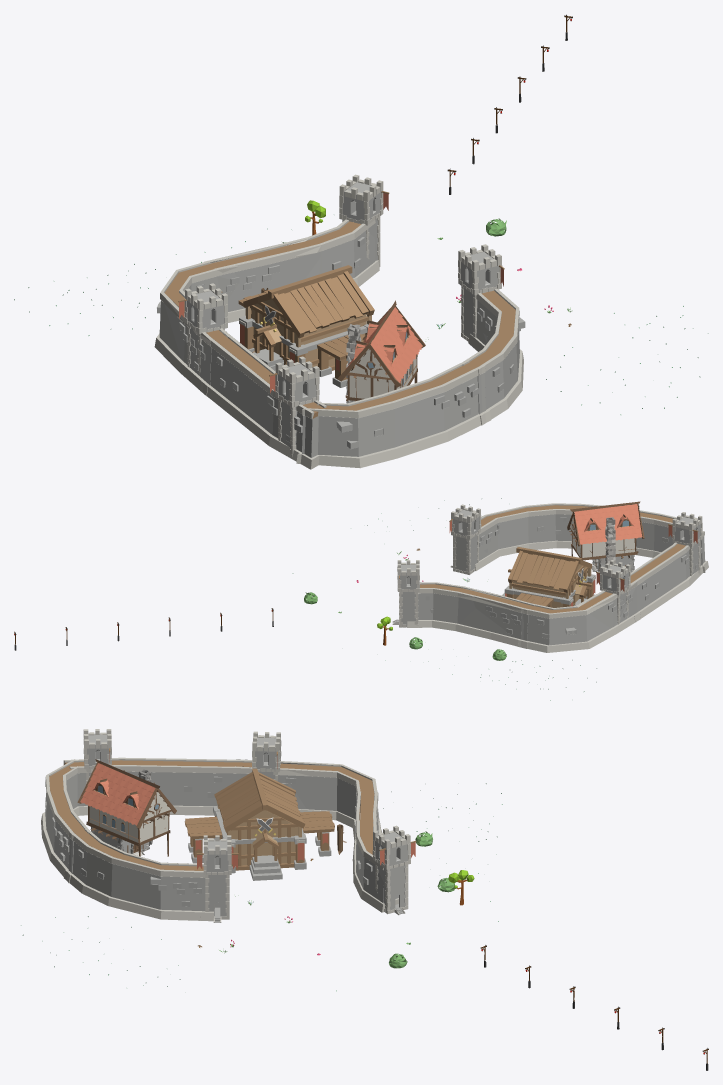
File: chunk_0_0_lod0.glb
The picture shows the model from 3 angles, top to bottom: view 1: azimuth 30°, elevation 25°; view 2: azimuth 150°, elevation 25°; view 3: azimuth 270°, elevation 25°; orthographic projection. The views are drawn at different scales.
Visible parts, largest first — view 1: Batched_chunk_0_0; view 2: Batched_chunk_0_0; view 3: Batched_chunk_0_0.
Boxes of the visible parts, bbox=[...] form: Batched_chunk_0_0: bbox=[14, 14, 708, 469]; Batched_chunk_0_0: bbox=[14, 498, 708, 700]; Batched_chunk_0_0: bbox=[21, 729, 708, 1070].
Size of the model in its own units: 110 by 14.09 by 112.
Materials: 30 (1 with a texture image).
